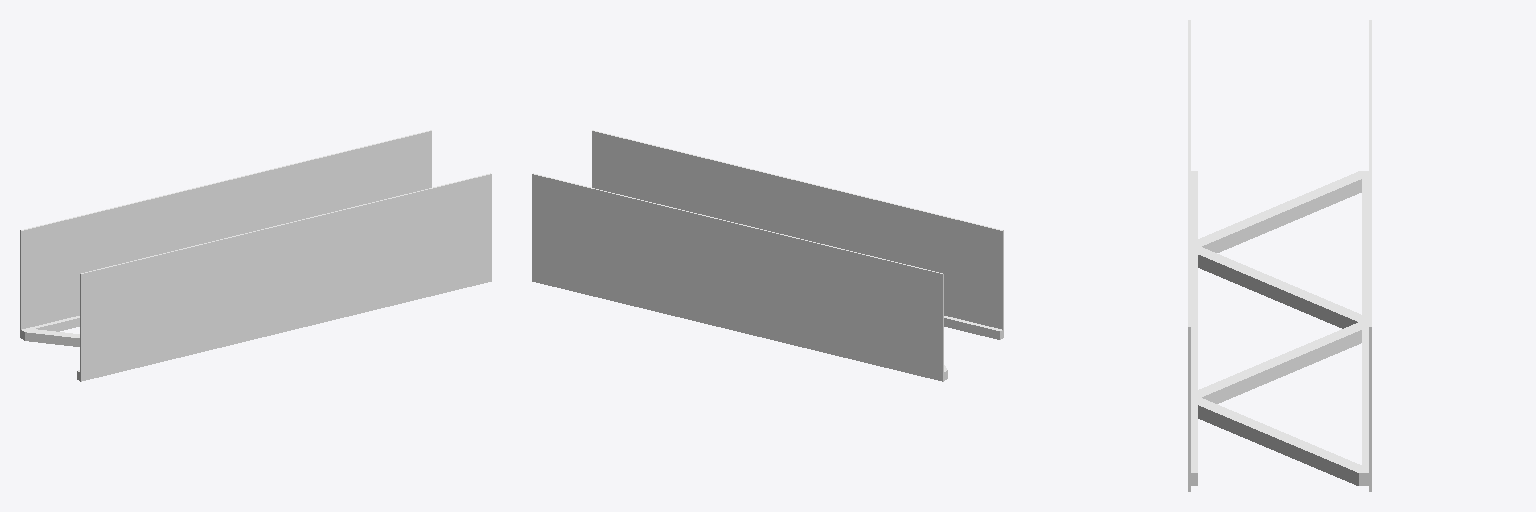
URDF robot description (terrain-rails_k_flat):
<?xml version="1.0" encoding="utf-8"?>
<!-- This URDF was automatically created by SolidWorks to URDF Exporter! Originally created by [author] ([email redacted]) 
     Commit Version: 1.6.0-4-g7f85cfe  Build Version: 1.6.7995.38578
     For more information, please see http://wiki.ros.org/sw_urdf_exporter -->
<robot
  name="terrain-rails_k_flat">
  <link
    name="base_link">
    <inertial>
      <origin
        xyz="2.4308 -0.618 0.48158"
        rpy="0 0 0" />
      <mass
        value="278.1" />
      <inertia
        ixx="30.838"
        ixy="-4.4409E-16"
        ixz="1.0452E-14"
        iyy="70.313"
        iyz="-2.3567E-15"
        izz="47.876" />
    </inertial>
    <visual>
      <origin
        xyz="0 0 0"
        rpy="0 0 0" />
      <geometry>
        <mesh
          filename="package://terrain-rails_k_flat/meshes/base_link.STL" />
      </geometry>
      <material
        name="">
        <color
          rgba="1 1 1 1" />
      </material>
    </visual>
    <collision>
      <origin
        xyz="0 0 0"
        rpy="0 0 0" />
      <geometry>
        <mesh
          filename="package://terrain-rails_k_flat/meshes/base_link.STL" />
      </geometry>
    </collision>
  </link>
</robot>

--- Render facts (derived) ---
3 views of the same robot in one strip: view 1: azimuth 30°, elevation 25°; view 2: azimuth 150°, elevation 25°; view 3: azimuth 270°, elevation 25° (orthographic).
Robot: terrain-rails_k_flat — 1 links, 0 joints (none); root link base_link; default pose: all joints at 0.
Visible links, largest first — view 1: base_link; view 2: base_link; view 3: base_link.
Link boxes in pixels (x1,y1,x2,y2): base_link: (20,130,491,381); base_link: (532,130,1003,381); base_link: (1188,20,1371,491).
Size in the robot's own frame: 4.88 by 1.24 by 1.22 metres.
1 mesh visuals loaded from 1 distinct referenced files (1 binary STL).